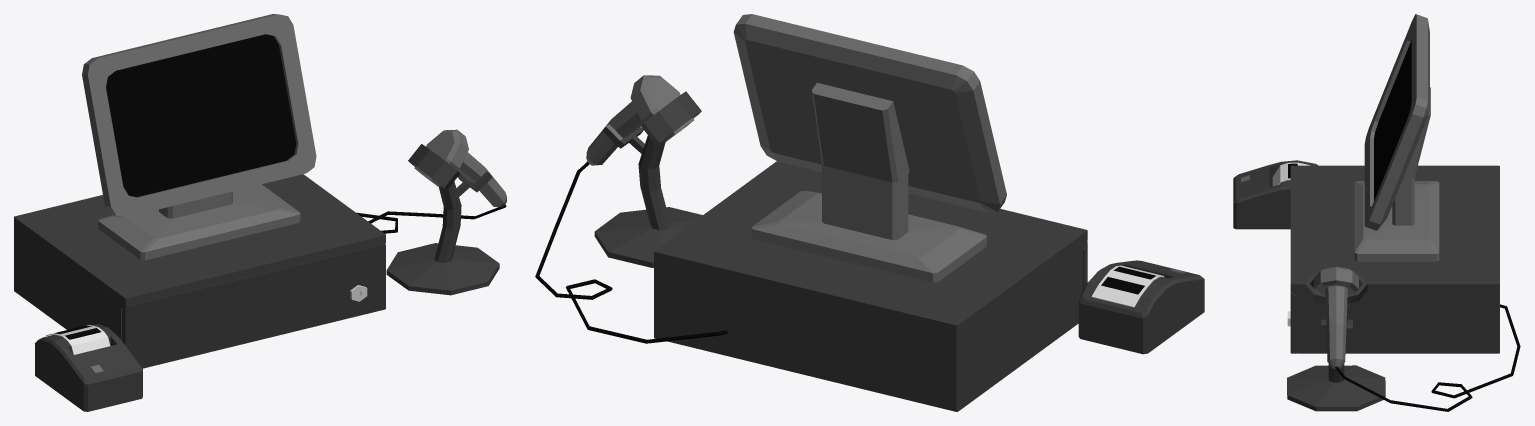
Rendered from Ma_Cash_Register.fbx.
3 views of the same model, side by side, from view 1: azimuth 30°, elevation 25°; view 2: azimuth 150°, elevation 25°; view 3: azimuth 270°, elevation 25° (orthographic). The views are drawn at different scales.
Visible parts, largest first — view 1: Ma_Cash_Register; view 2: Ma_Cash_Register; view 3: Ma_Cash_Register.
Part boxes in pixels (x1,y1,x2,y2): Ma_Cash_Register: (14,14,506,411); Ma_Cash_Register: (535,14,1204,411); Ma_Cash_Register: (1233,14,1520,411).
Size of the model in its own units: 696 by 386 by 353.
